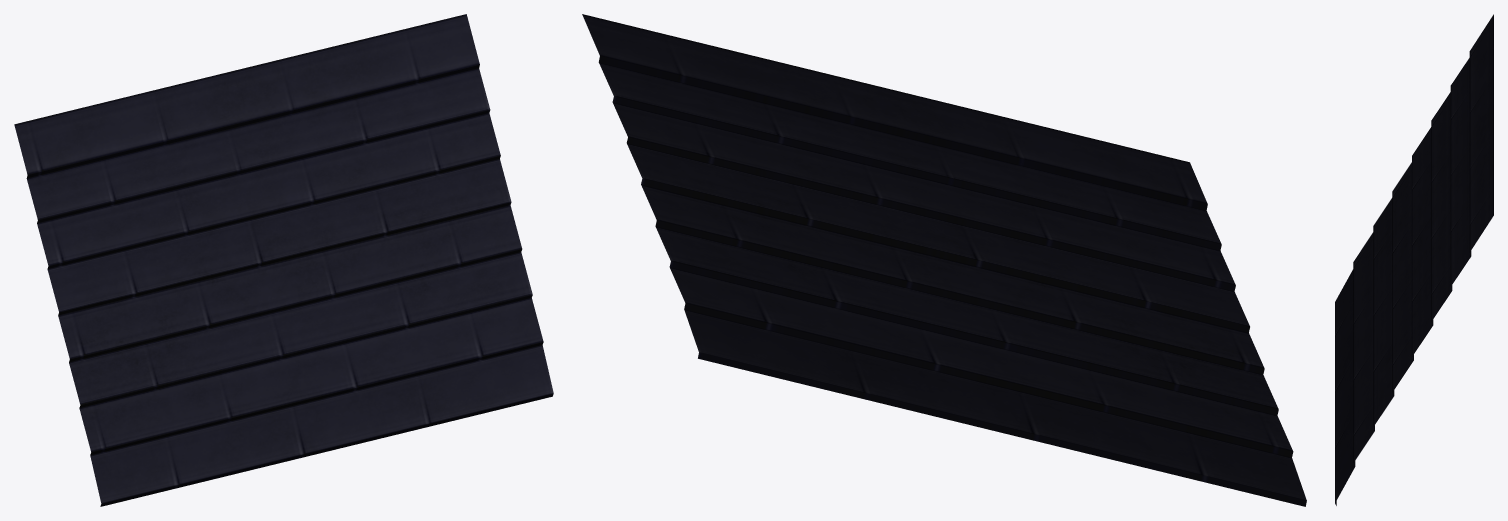
Rendered from Roof_THREE_BY_ONE 1.fbx.
The picture shows the model from 3 angles, left to right: view 1: azimuth 30°, elevation 25°; view 2: azimuth 150°, elevation 25°; view 3: azimuth 270°, elevation 25°; orthographic projection. The views are drawn at different scales.
Visible parts, largest first — view 1: Roof_THREE_BY_ONE29; view 2: Roof_THREE_BY_ONE29; view 3: Roof_THREE_BY_ONE29.
Boxes of the visible parts, x1,y1,x2,y2 form: Roof_THREE_BY_ONE29: (14,14,553,506); Roof_THREE_BY_ONE29: (582,14,1306,506); Roof_THREE_BY_ONE29: (1335,14,1493,505).
Size of the model in its own units: 3 by 2.02 by 1.
